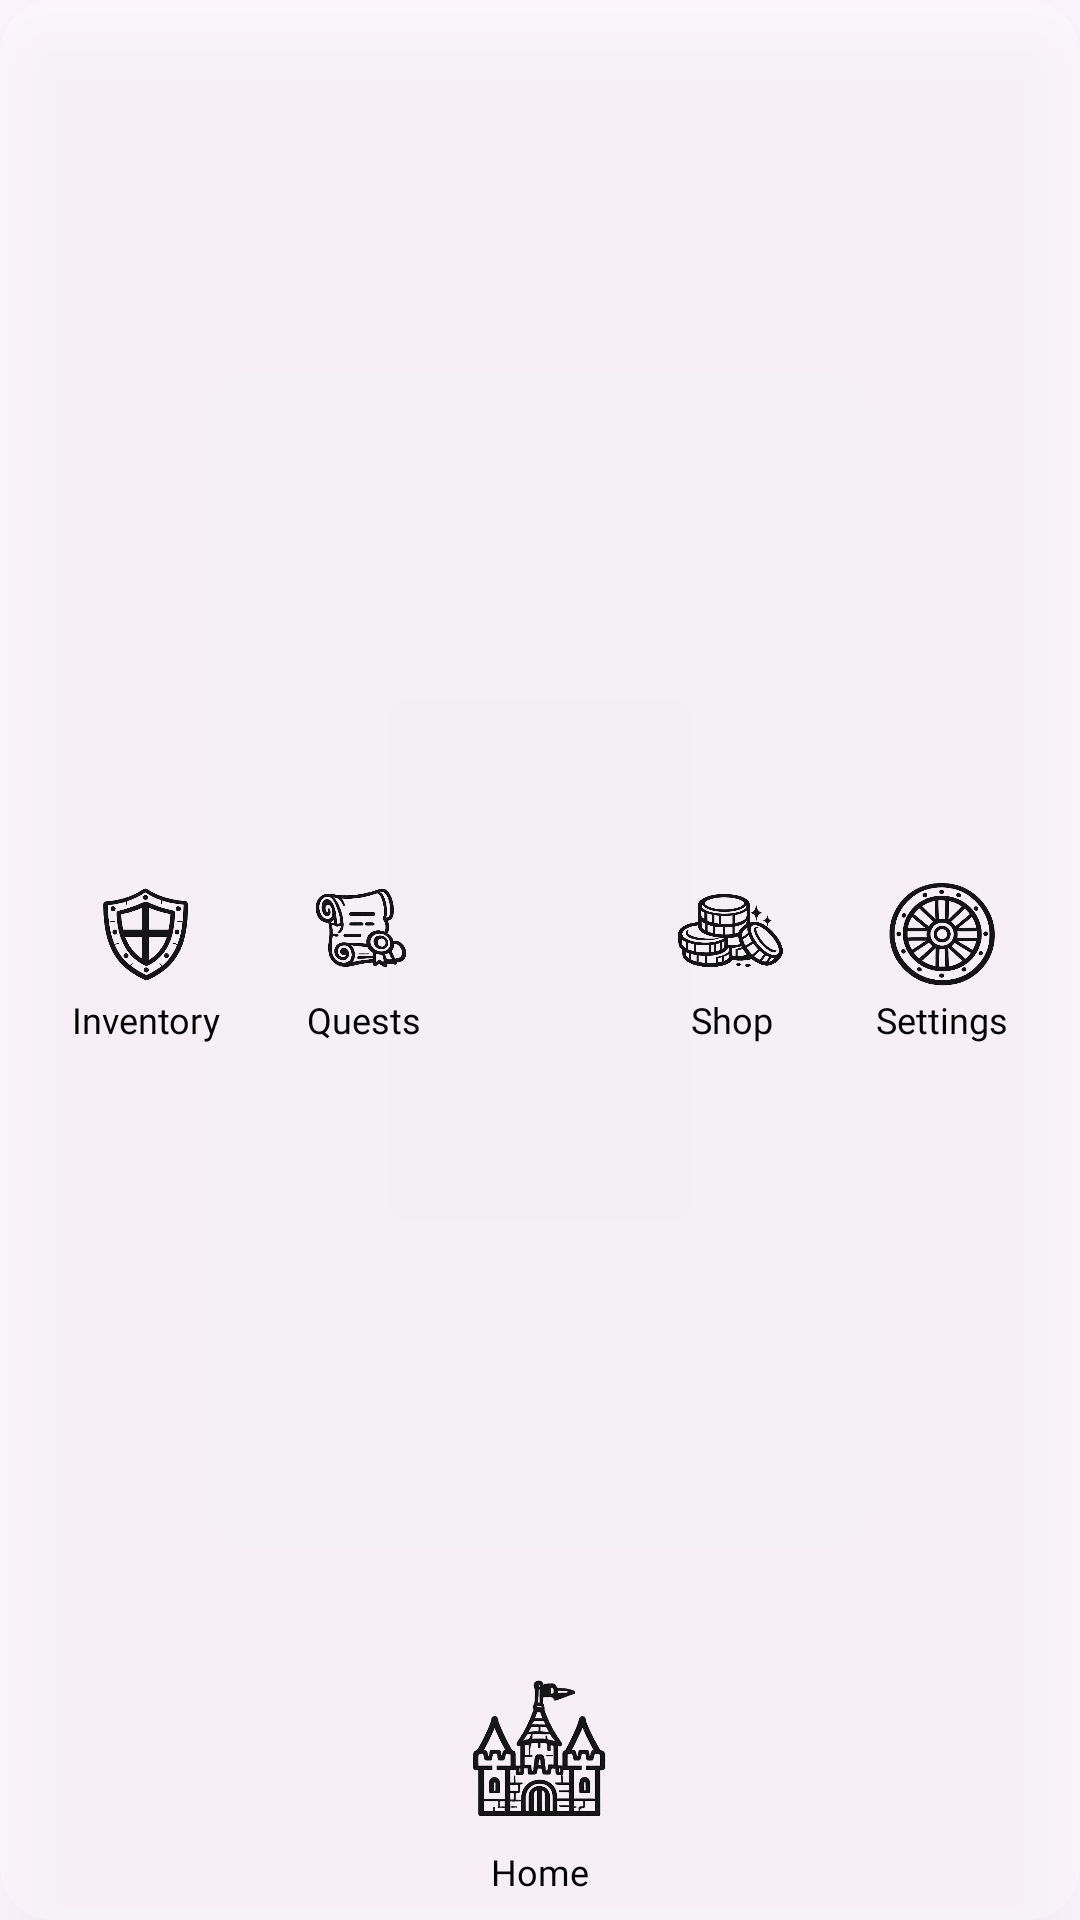

Icon bounding boxes for this 1080×1920 phone screenshot, format (x1, y1, x2, y2):
shield revised: (103, 888, 188, 980)
